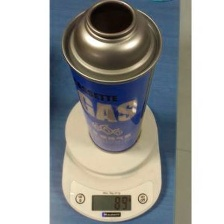aerosol_cans: (58, 0, 165, 160)
